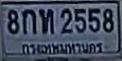2: (60, 7, 72, 32)
5: (88, 7, 100, 32), (73, 8, 85, 32)
8: (7, 8, 18, 33), (102, 8, 113, 32)
A01: (21, 8, 36, 34)
A23: (38, 8, 53, 33)
BKK: (19, 40, 104, 55)
